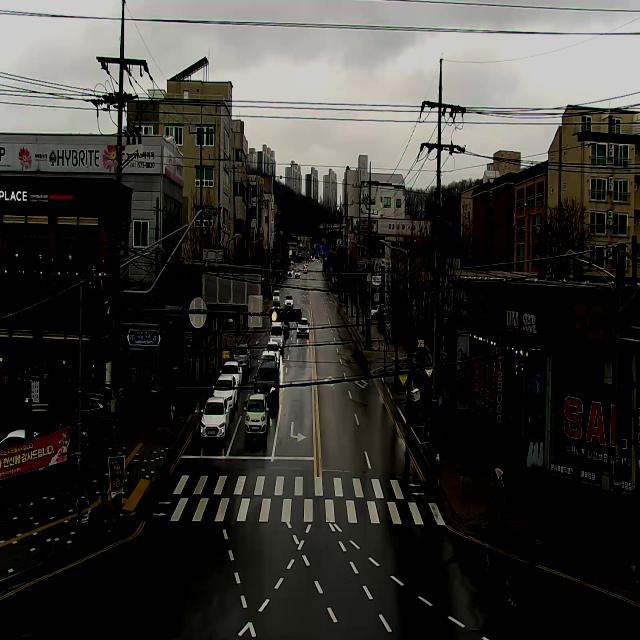Car: (12, 412, 92, 460), (0, 429, 45, 478), (74, 392, 110, 442), (200, 397, 230, 439), (243, 394, 269, 435), (254, 361, 279, 402), (212, 375, 238, 411), (220, 361, 242, 391), (231, 343, 251, 371), (257, 349, 279, 372), (264, 342, 280, 362), (296, 317, 310, 338), (372, 304, 386, 319), (183, 331, 192, 349), (284, 294, 294, 308), (272, 290, 281, 305), (283, 321, 290, 335), (295, 270, 299, 278), (303, 268, 308, 274), (288, 270, 292, 276), (290, 260, 294, 265), (299, 271, 301, 277)
Truck: (269, 322, 284, 350)
